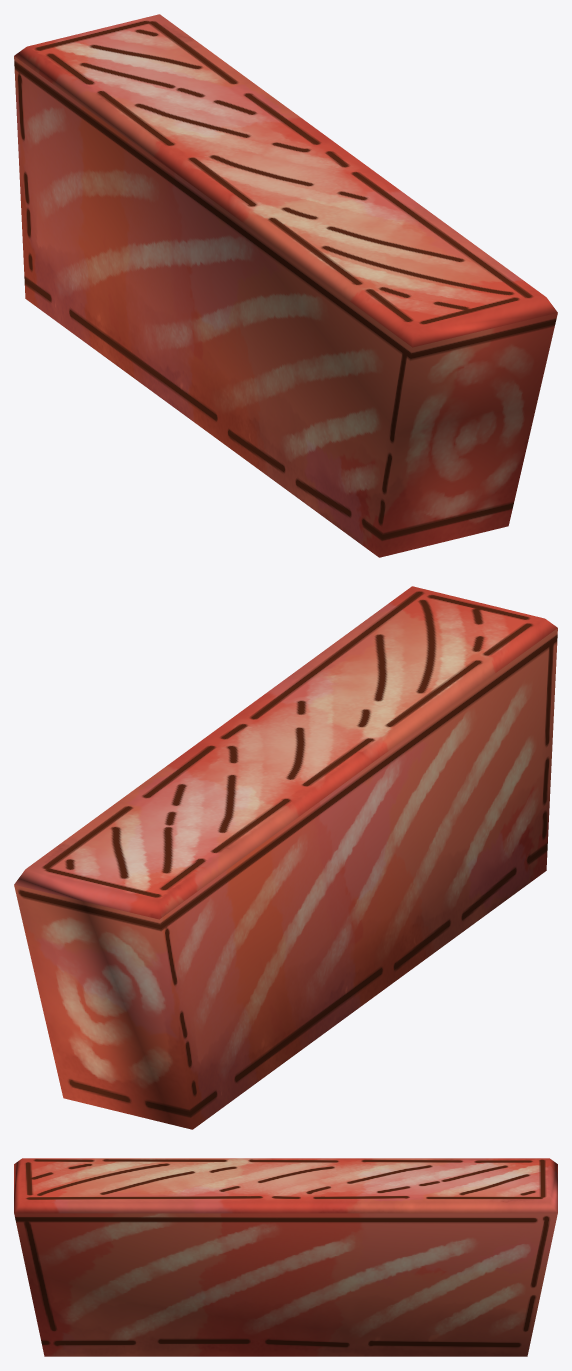
The model's file is bottom side slab.fbx.
3 views of the same model, one above another, from view 1: azimuth 30°, elevation 25°; view 2: azimuth 150°, elevation 25°; view 3: azimuth 270°, elevation 25° (orthographic). The views are drawn at different scales.
Visible parts, largest first — view 1: bottomside2; view 2: bottomside2; view 3: bottomside2.
Boxes of the visible parts, x1,y1,x2,y2 form: bottomside2: [14, 14, 557, 557]; bottomside2: [14, 586, 557, 1129]; bottomside2: [14, 1158, 557, 1356].
Bounding box in the file's own units: 8.55 × 12.31 × 37.72.
